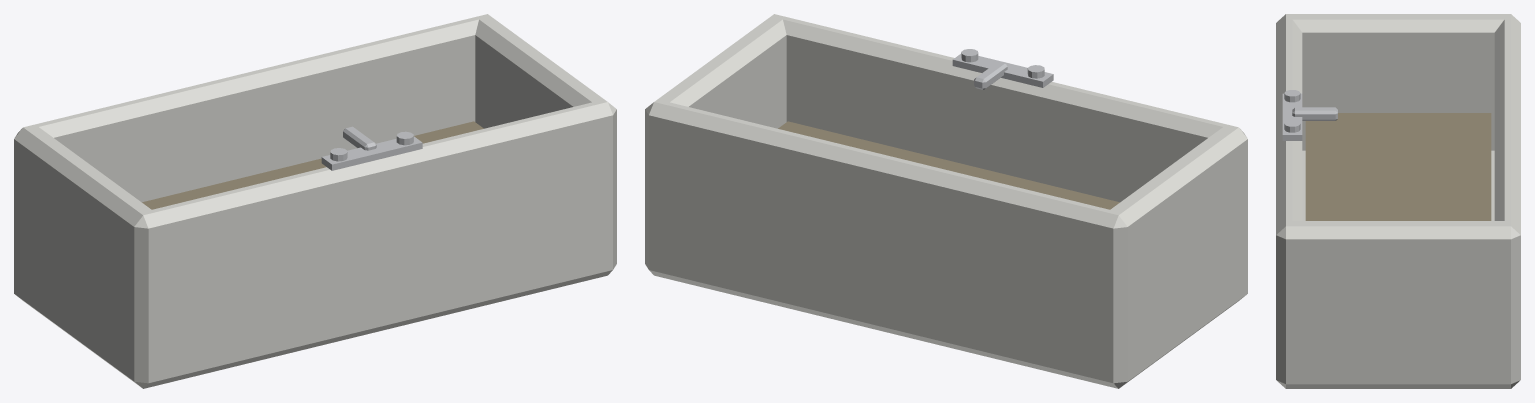
File: bathtub.glb
The picture shows the model from 3 angles, left to right: view 1: azimuth 30°, elevation 25°; view 2: azimuth 150°, elevation 25°; view 3: azimuth 270°, elevation 25°; orthographic projection. The views are drawn at different scales.
Visible parts, largest first — view 1: bathtub; view 2: bathtub; view 3: bathtub.
Boxes of the visible parts, bbox=[...] form: bathtub: bbox=[14, 14, 616, 388]; bathtub: bbox=[645, 14, 1247, 388]; bathtub: bbox=[1276, 14, 1520, 388].
Bounding box in the file's own units: 1.6 × 0.59 × 0.75.
